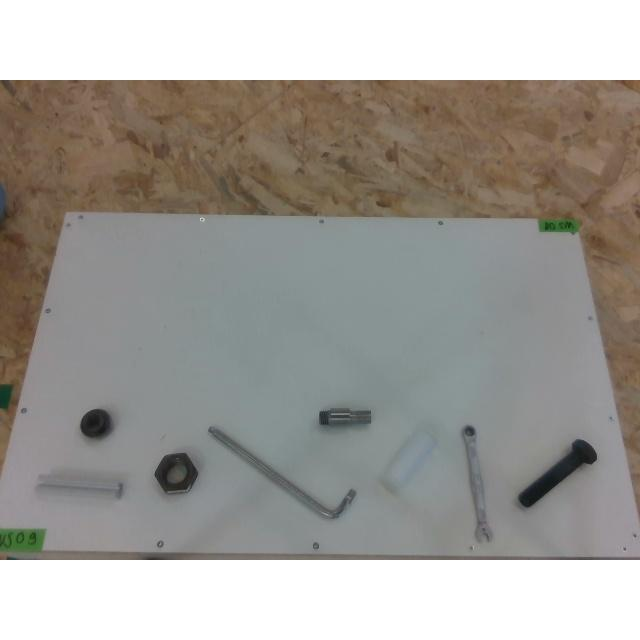AllenKey: (208, 426, 356, 518)
Axis2: (319, 407, 371, 425)
Bearing2: (80, 409, 112, 438)
F20_20_G: (38, 474, 122, 498)
M20_100: (518, 439, 596, 507)
M30: (155, 453, 197, 493)
Spacer: (380, 424, 436, 492)
Wrench: (462, 426, 492, 542)
